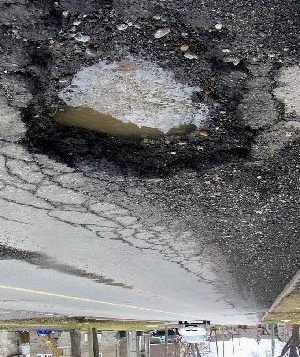pothole: (15, 0, 257, 182)
